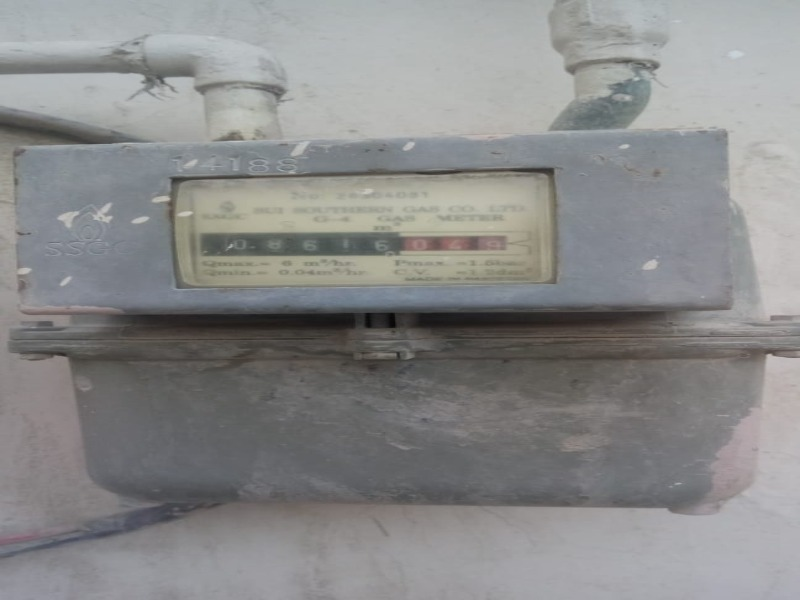ssgc: (196, 229, 514, 258)
